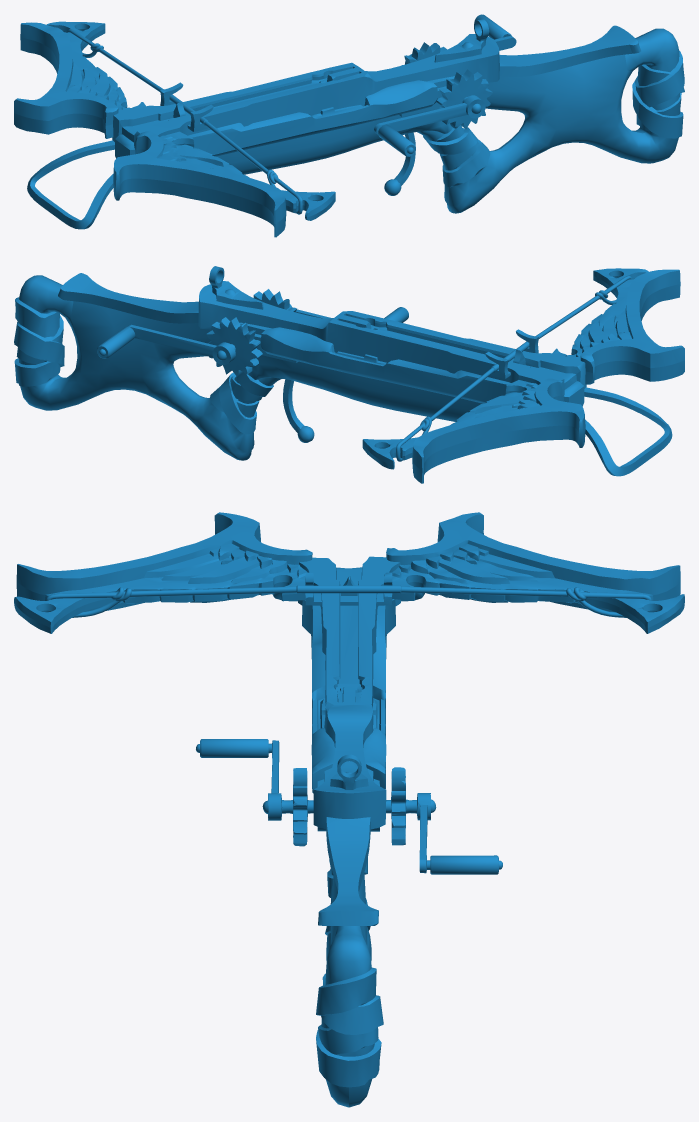
Rendered from SM_Rune_Crossbow_1.obj.
The picture shows the model from 3 angles, top to bottom: view 1: azimuth 30°, elevation 25°; view 2: azimuth 150°, elevation 25°; view 3: azimuth 270°, elevation 25°; orthographic projection. The views are drawn at different scales.
Bounding box in the file's own units: 1090 × 306 × 776.
